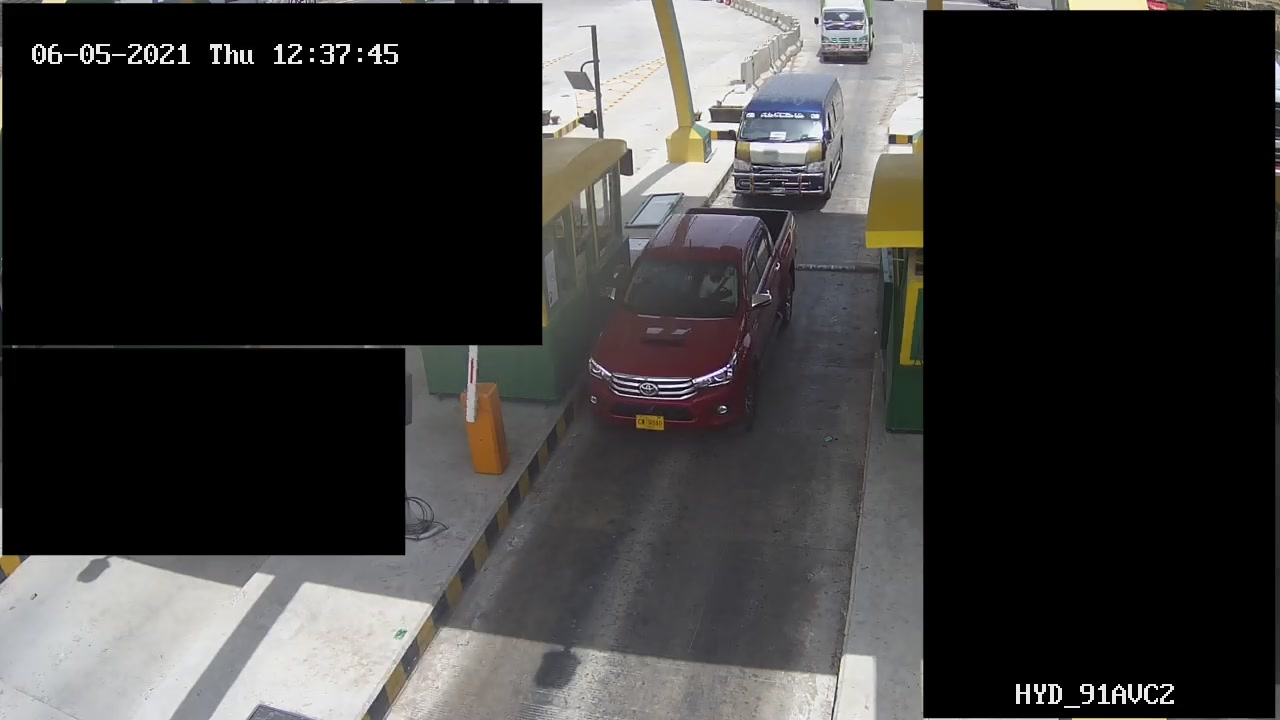F1: (584, 201, 798, 433)
F2: (726, 67, 849, 206)
